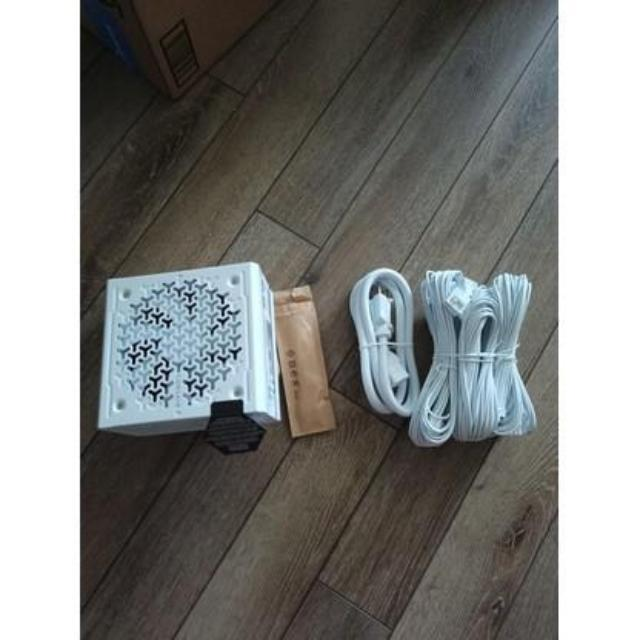PSU: (96, 260, 284, 458)
